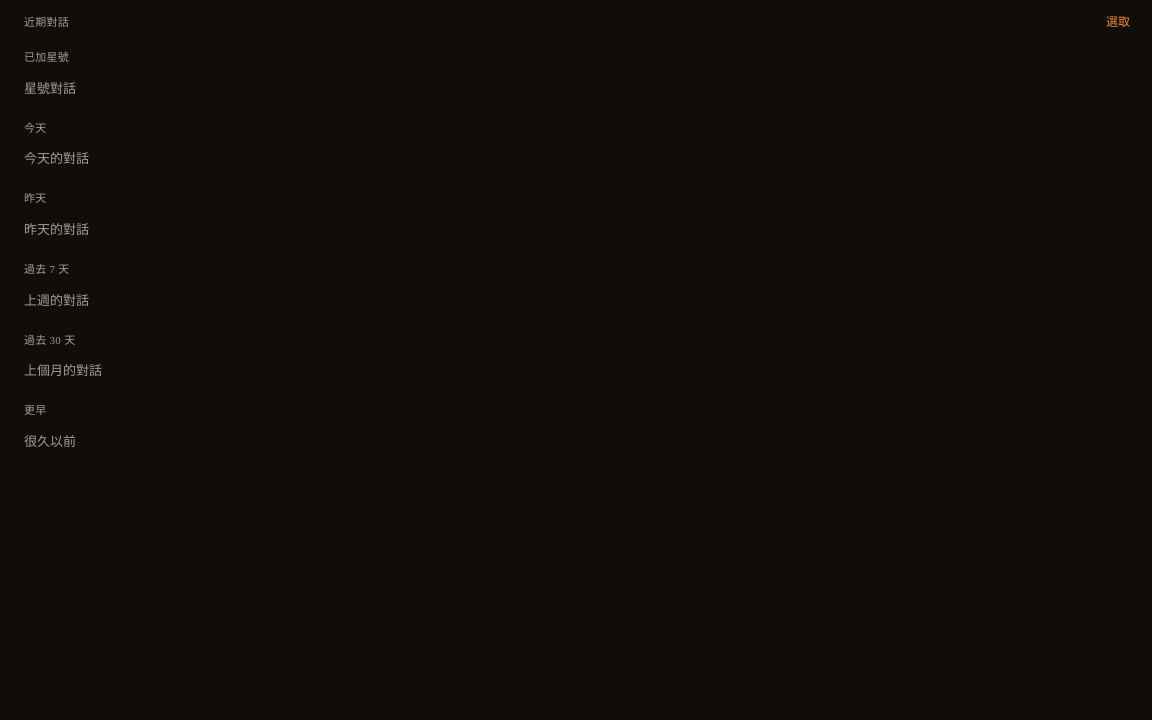
Test case: RecentsList select mode › row clicks toggle selection instead of navigating, and show the bulk bar
Click the button "選取". click: coordinates (1118, 22)
box: [1096,8,1140,36]
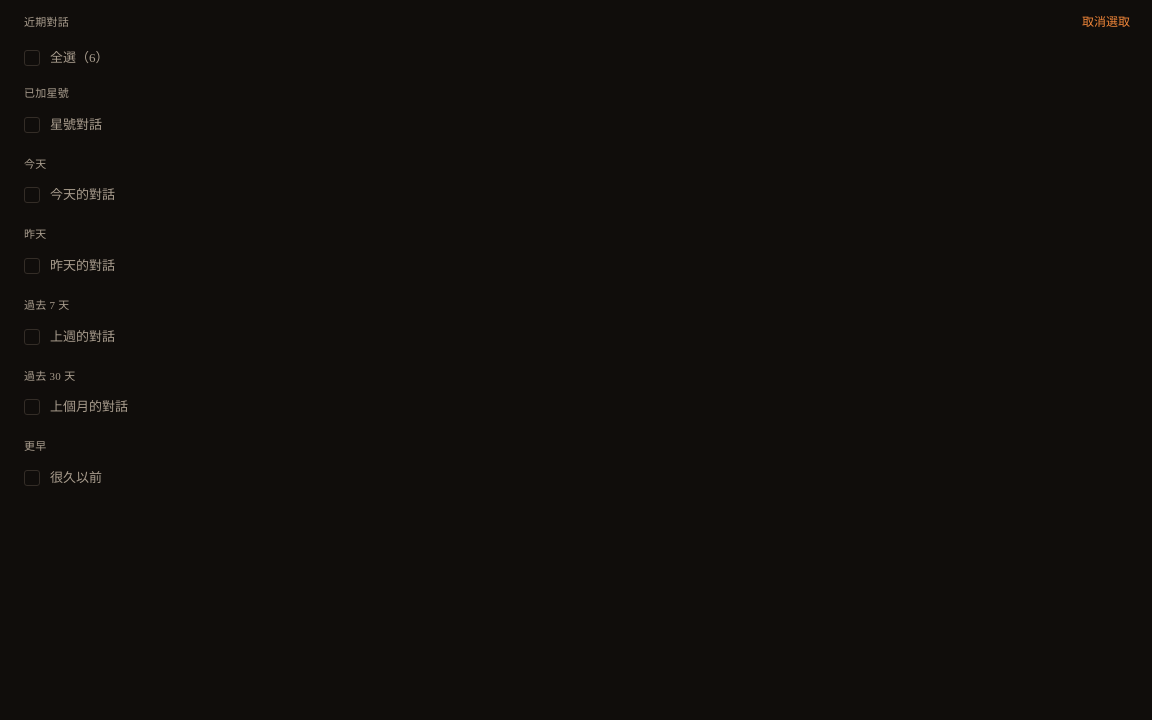
Expected: the button "今天的對話" is not pressed
Click the button "今天的對話". click: coordinates (83, 195)
box: [12,177,1140,213]
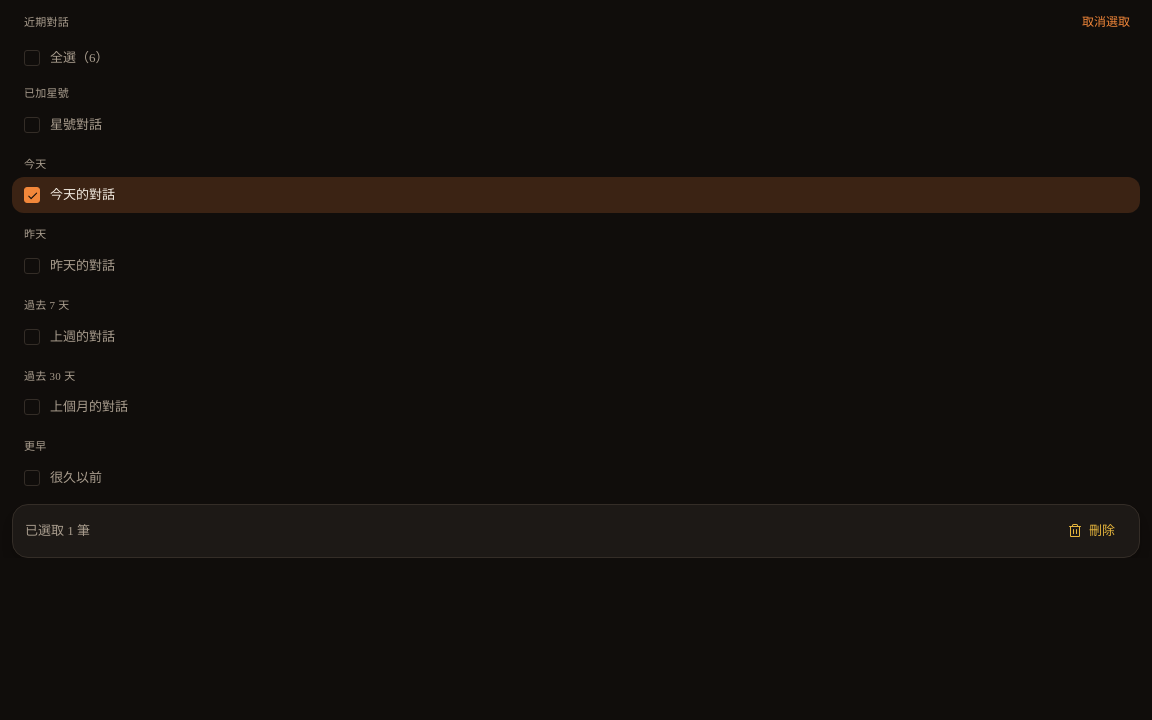
Expected: the button "今天的對話" is pressed
Click the button "今天的對話". click: coordinates (83, 195)
box: [12,177,1140,213]
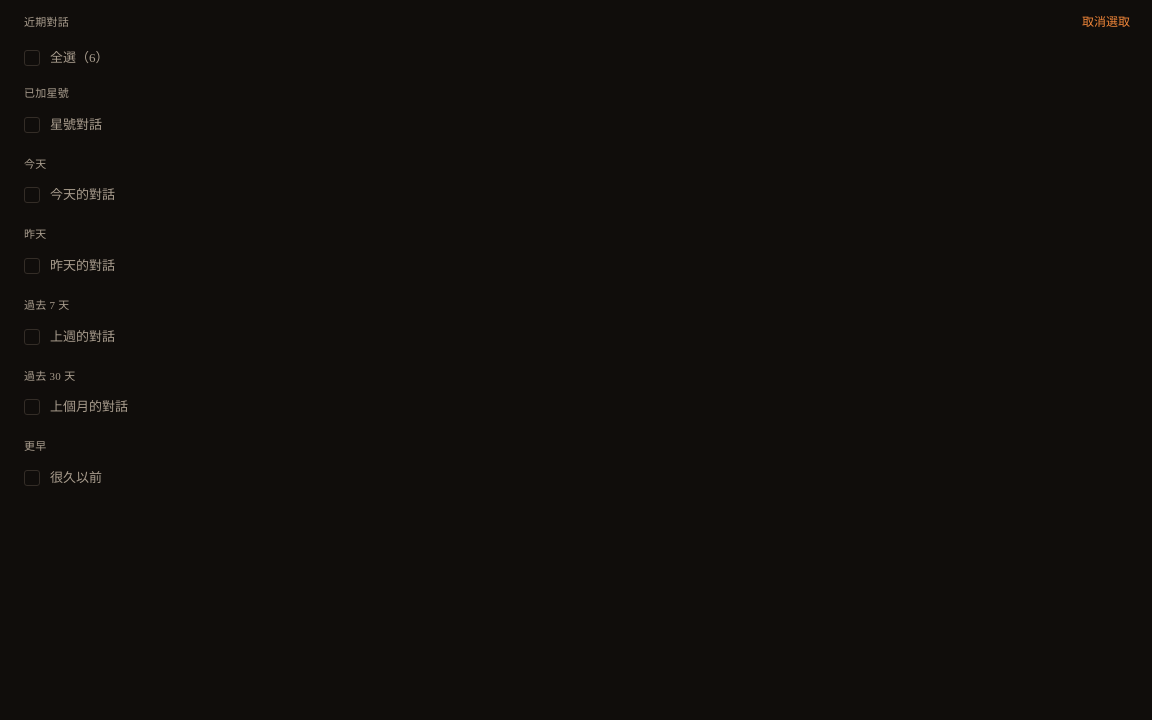
Expected: the text "已選取" is gone
